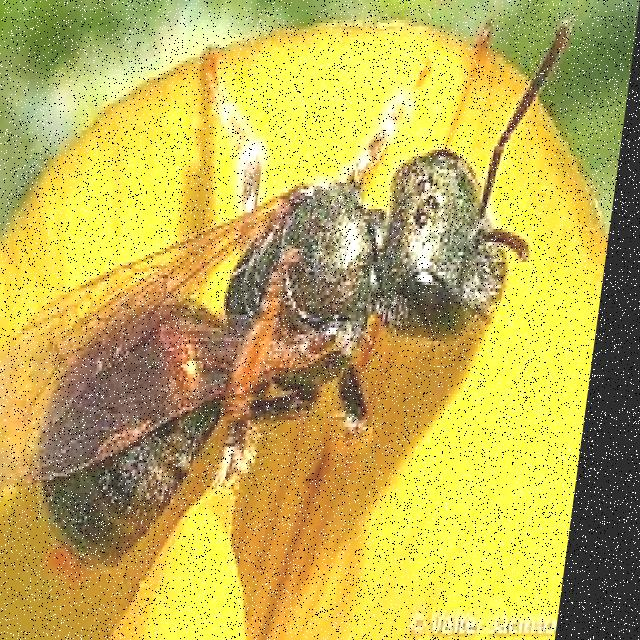Seladonia: (6, 29, 596, 564)
